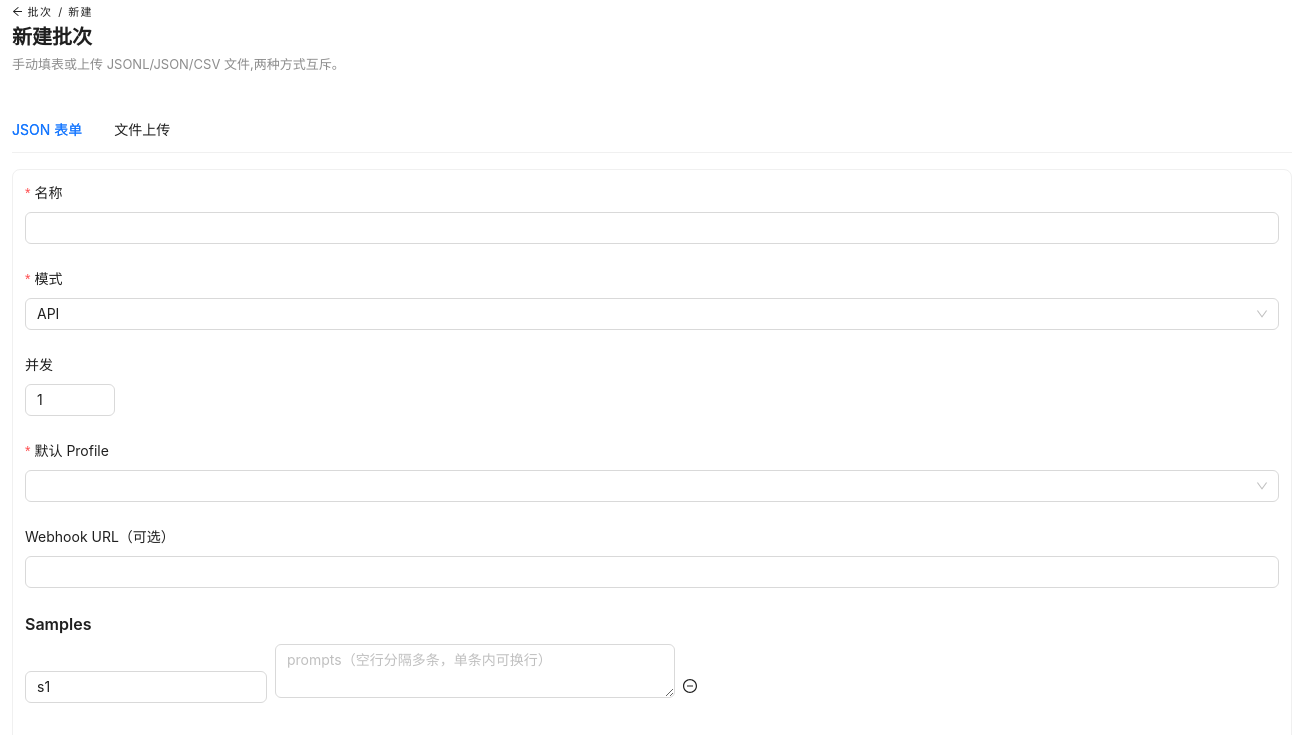
Test: BatchNew › shows Android mode and filters profiles to android
Press the mouse on the dropdown labelled "模式" at (51, 279), box left=25, top=268, right=76, bottom=290
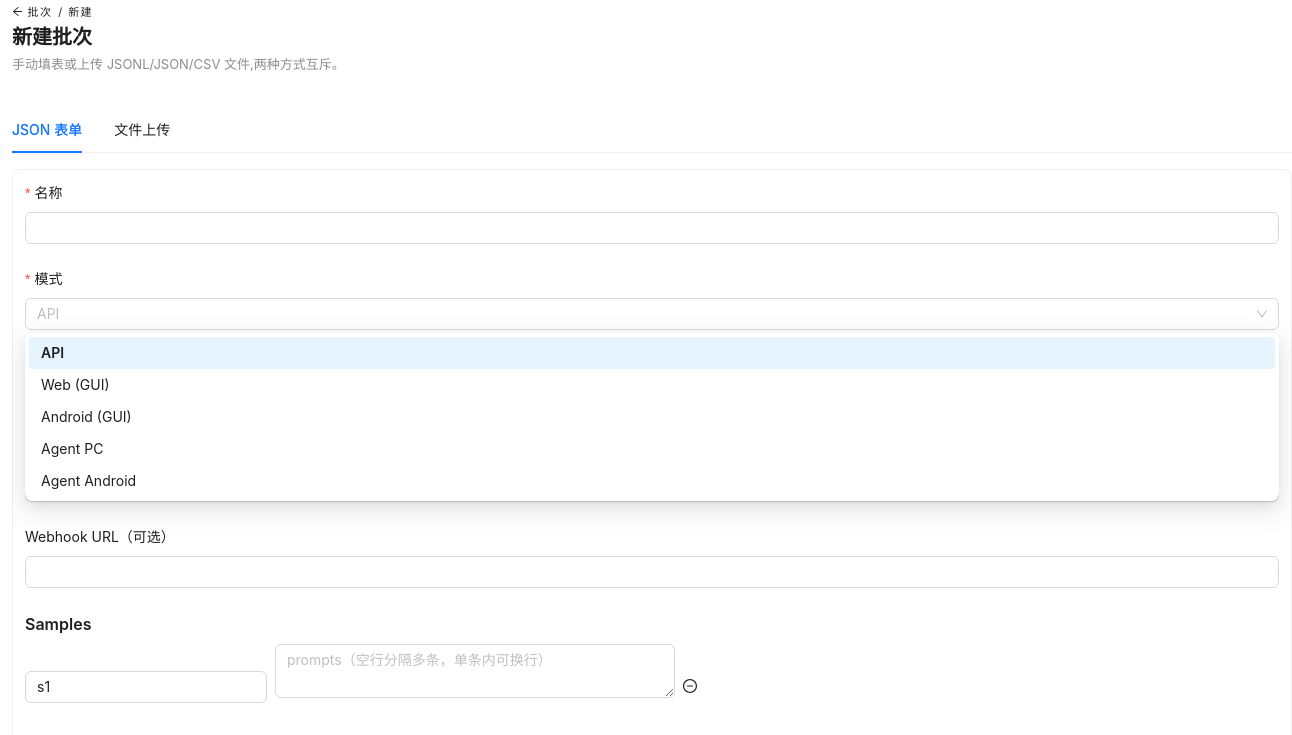
Check: the text "Android (GUI)" is shown
Click the text "Android (GUI)" at (86, 416), box left=41, top=408, right=132, bottom=425
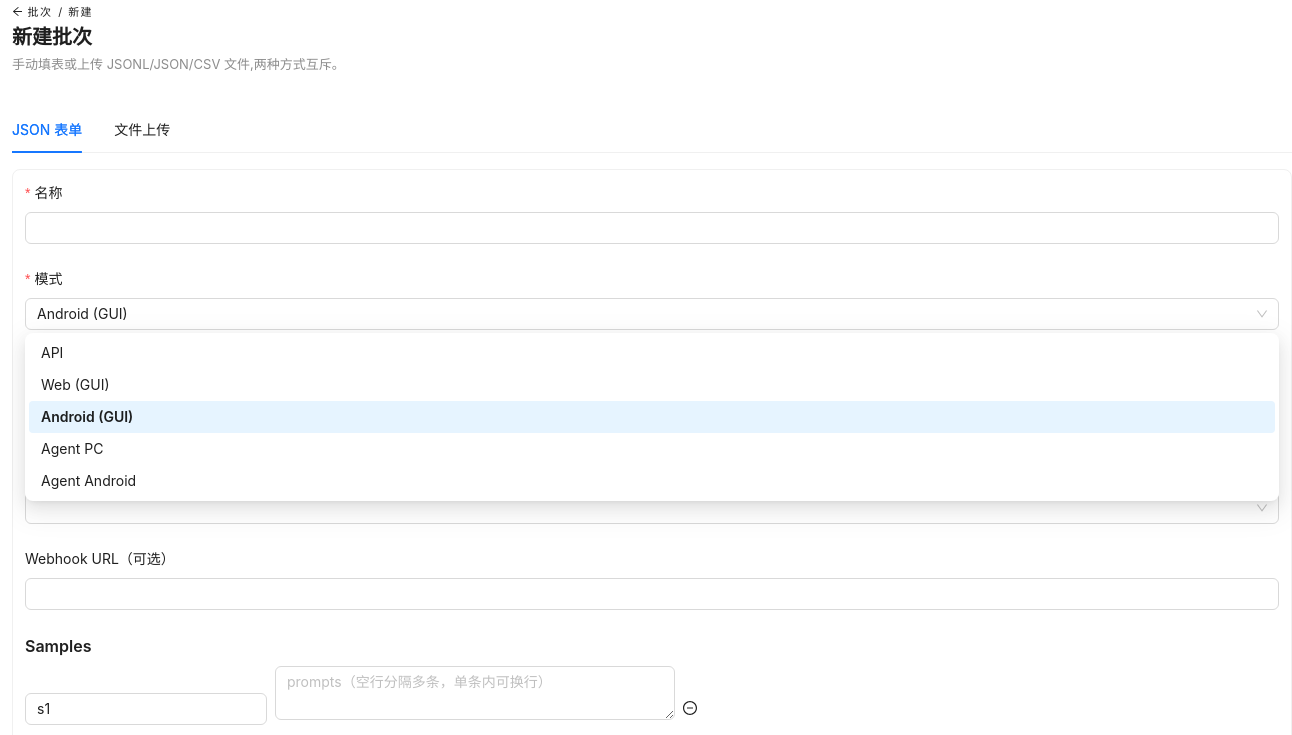
Press the mouse on the dropdown labelled "默认 Profile" at (74, 473), box left=25, top=462, right=123, bottom=484
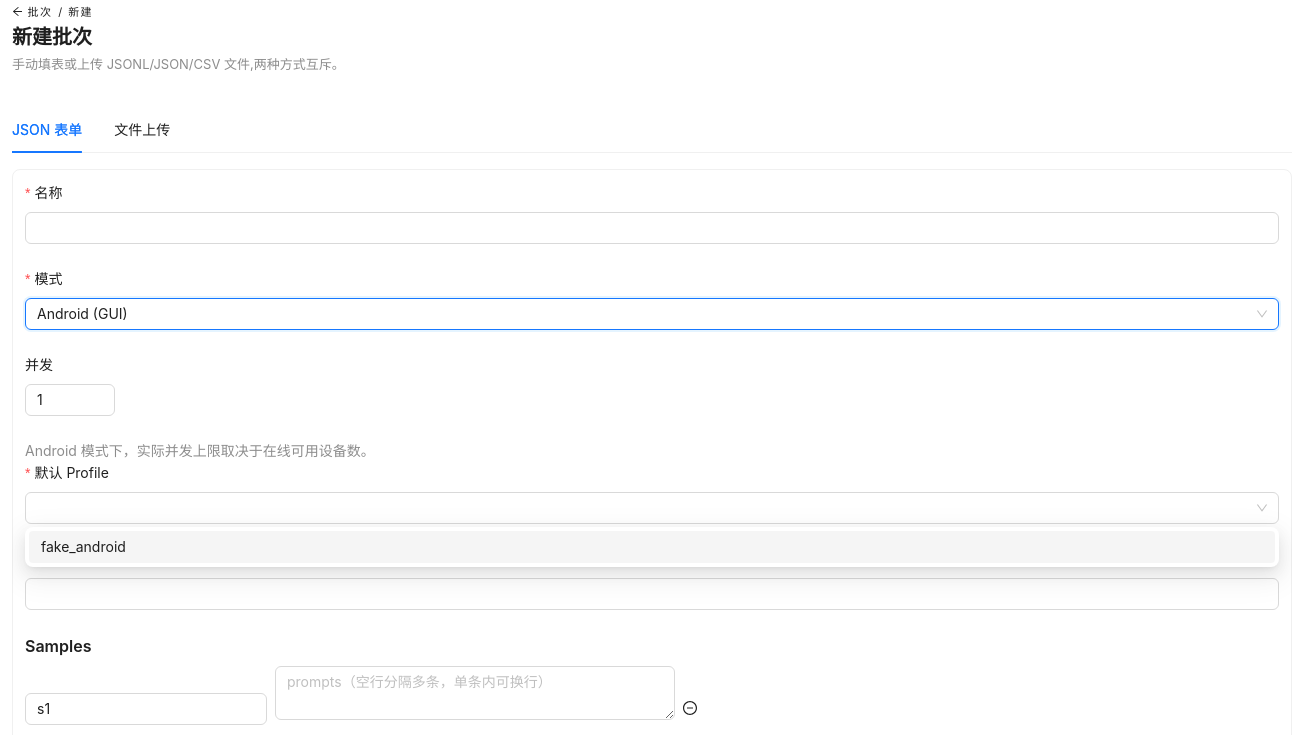
Check: the text "fake_android" is shown, box left=41, top=538, right=126, bottom=555
